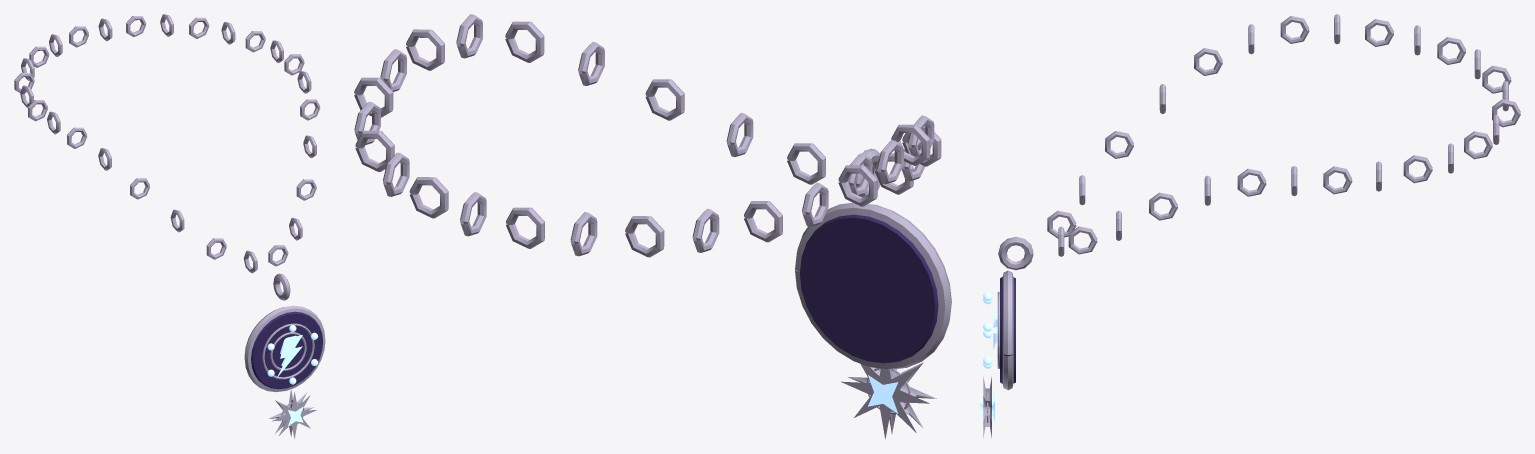
The model's file is asc_eclipse_oracle_accessory.glb.
The picture shows the model from 3 angles, left to right: view 1: azimuth 30°, elevation 25°; view 2: azimuth 150°, elevation 25°; view 3: azimuth 270°, elevation 25°; orthographic projection. The views are drawn at different scales.
Parts seen in each view (by area): view 1: asc_eclipse_oracle_accessory; view 2: asc_eclipse_oracle_accessory; view 3: asc_eclipse_oracle_accessory.
Part boxes in pixels (x1,y1,x2,y2): asc_eclipse_oracle_accessory: (14, 14, 325, 438); asc_eclipse_oracle_accessory: (354, 14, 951, 438); asc_eclipse_oracle_accessory: (980, 14, 1520, 438).
Bounding box in the file's own units: 0.3419 × 0.3392 × 0.4777.
